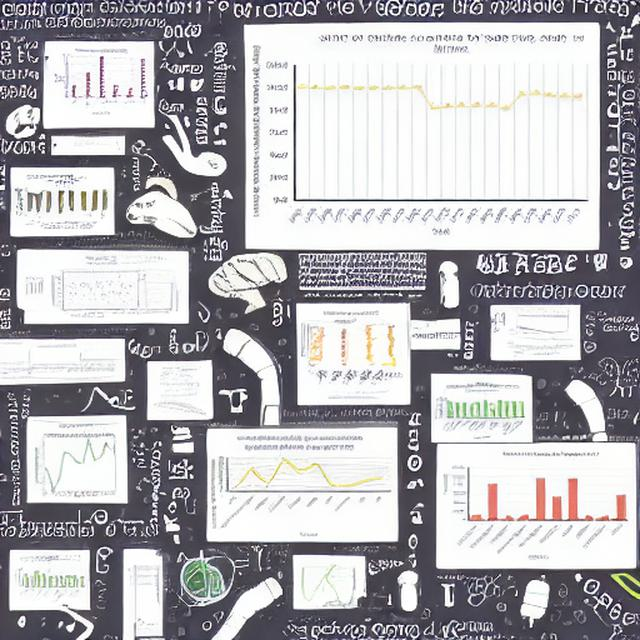Graph: (246, 29, 597, 244), (440, 444, 635, 568), (207, 433, 393, 540), (32, 429, 125, 499), (50, 48, 151, 107), (433, 382, 528, 442), (51, 269, 128, 319), (13, 557, 85, 603)
